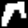n: (0, 0, 28, 28)
